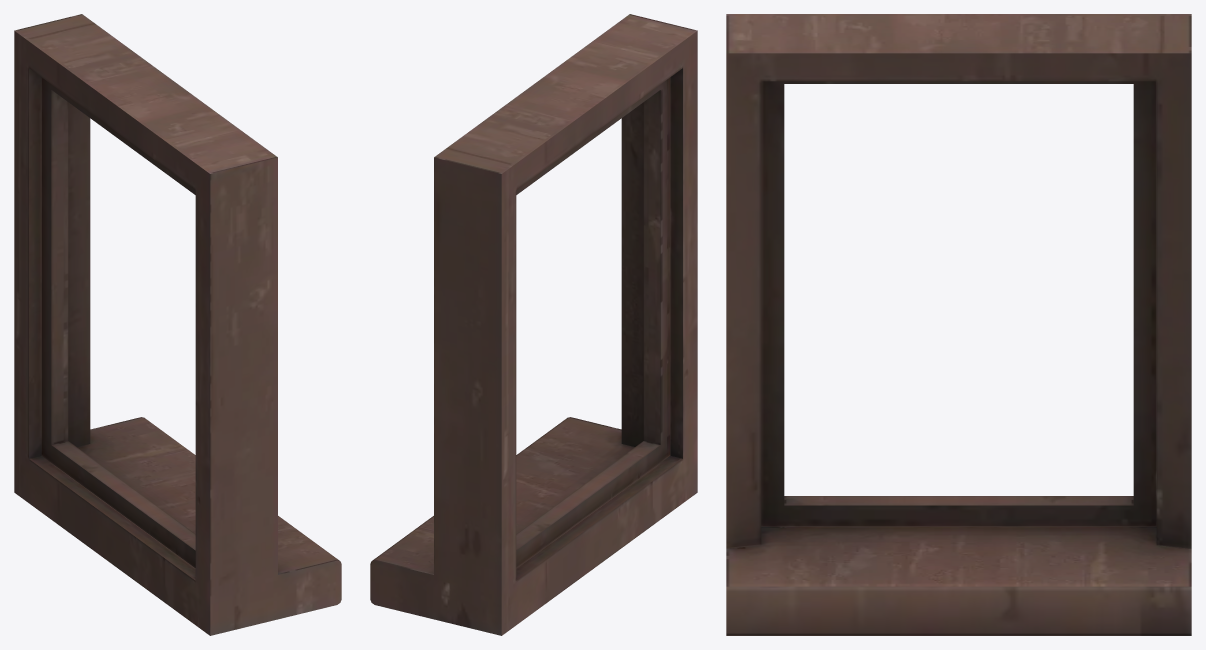
The picture shows the model from 3 angles, left to right: view 1: azimuth 30°, elevation 25°; view 2: azimuth 150°, elevation 25°; view 3: azimuth 270°, elevation 25°; orthographic projection. The views are drawn at different scales.
Visible parts, largest first — view 1: body0_model0_lod0_mesh0; view 2: body0_model0_lod0_mesh0; view 3: body0_model0_lod0_mesh0.
Part boxes in pixels (x1=…): body0_model0_lod0_mesh0: x1=14, y1=14, x2=341, y2=635; body0_model0_lod0_mesh0: x1=370, y1=14, x2=697, y2=635; body0_model0_lod0_mesh0: x1=726, y1=14, x2=1191, y2=635.
Bounding box in the file's own units: 15.5 × 52 × 40.
Materials: 1 (1 with a texture image).
